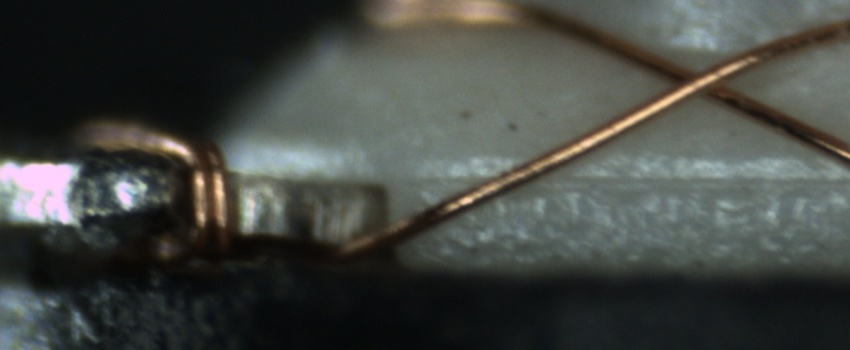CL: (643, 51, 748, 111)
DL: (419, 150, 850, 206)
TE: (72, 112, 244, 261)
